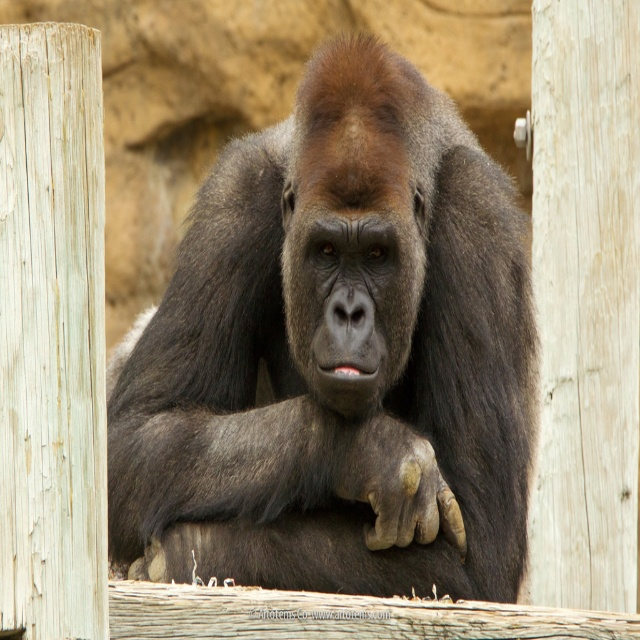Monkey: (98, 24, 551, 611)
